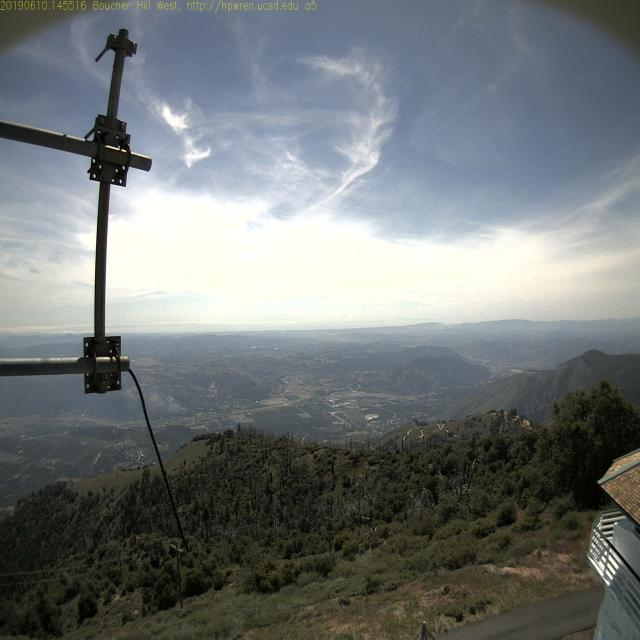smoke: (176, 396, 196, 422)
